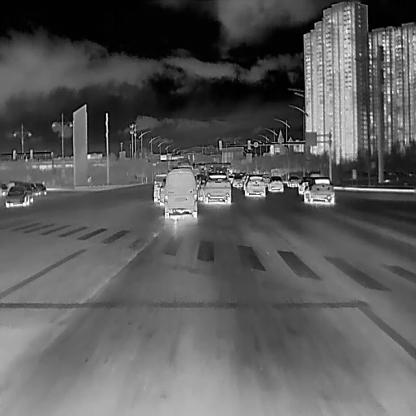car: (163, 168, 196, 218), (203, 173, 231, 203), (303, 177, 334, 204), (4, 185, 28, 206), (244, 174, 265, 197), (152, 174, 166, 201), (298, 177, 314, 193), (268, 176, 283, 192), (158, 180, 166, 204), (287, 174, 298, 187), (232, 175, 242, 187), (28, 182, 38, 194), (38, 182, 46, 193)
